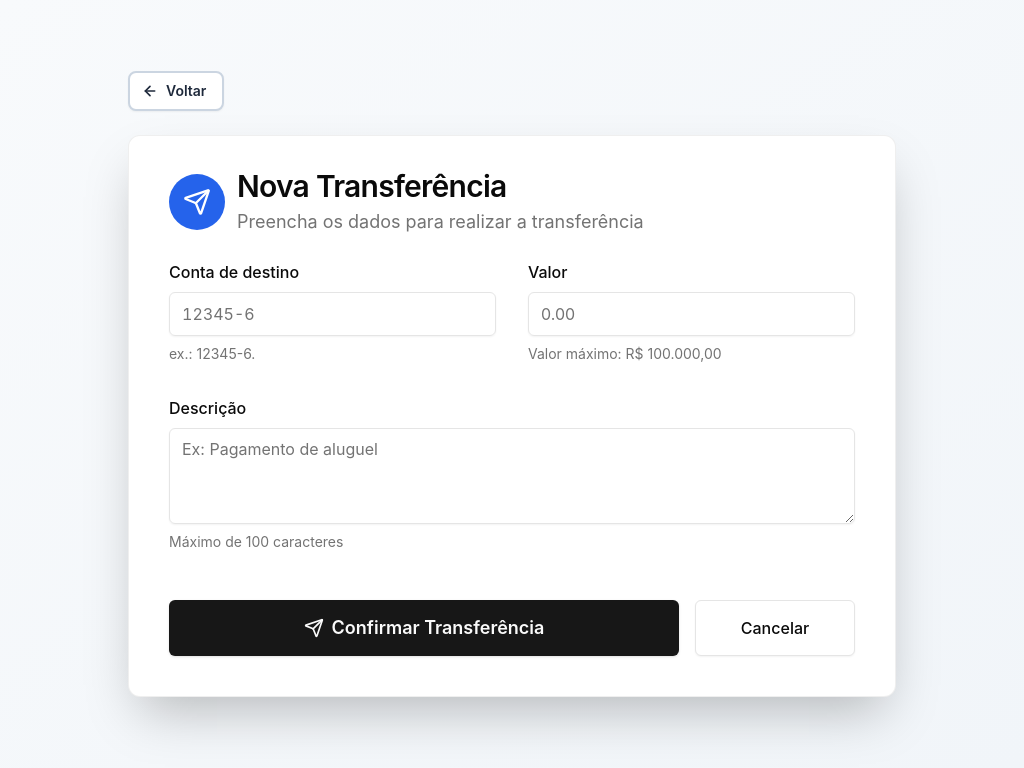
Test: Fluxo de Transferência › deve validar campos obrigatórios
This screenshot has width=1024, height=768.
Click the button "Confirmar Transferência". click: (424, 628)
box: left=169, top=600, right=679, bottom=656
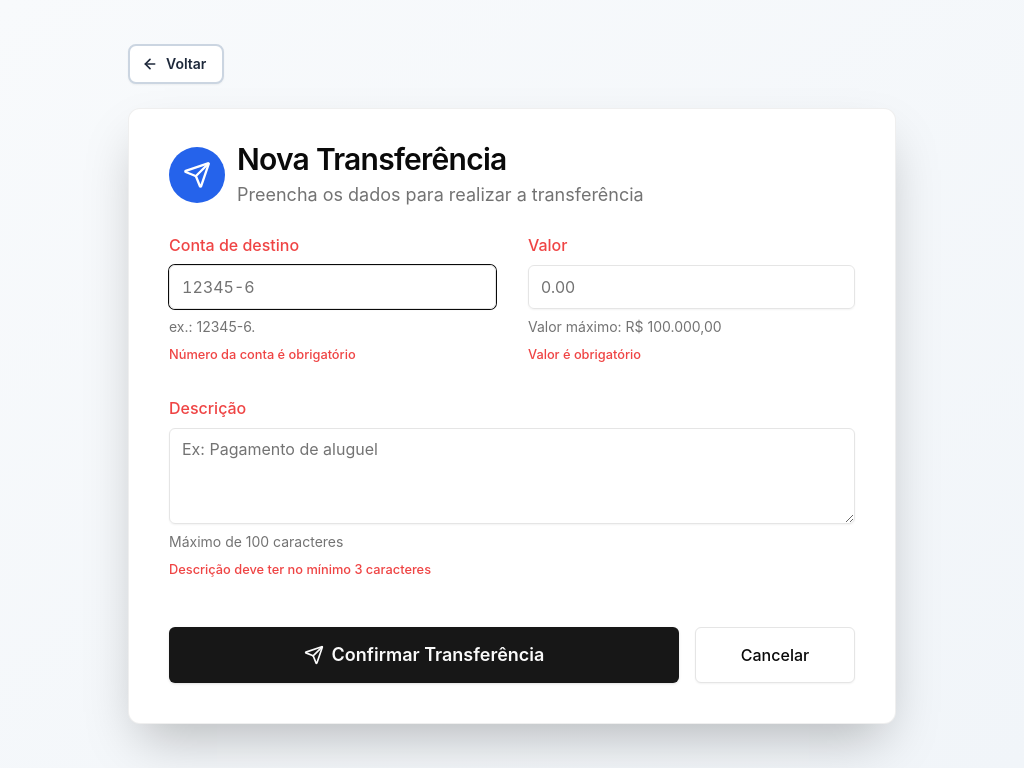
Result: the text "Número da conta é obrigatório" is shown at left=169, top=347, right=356, bottom=362
